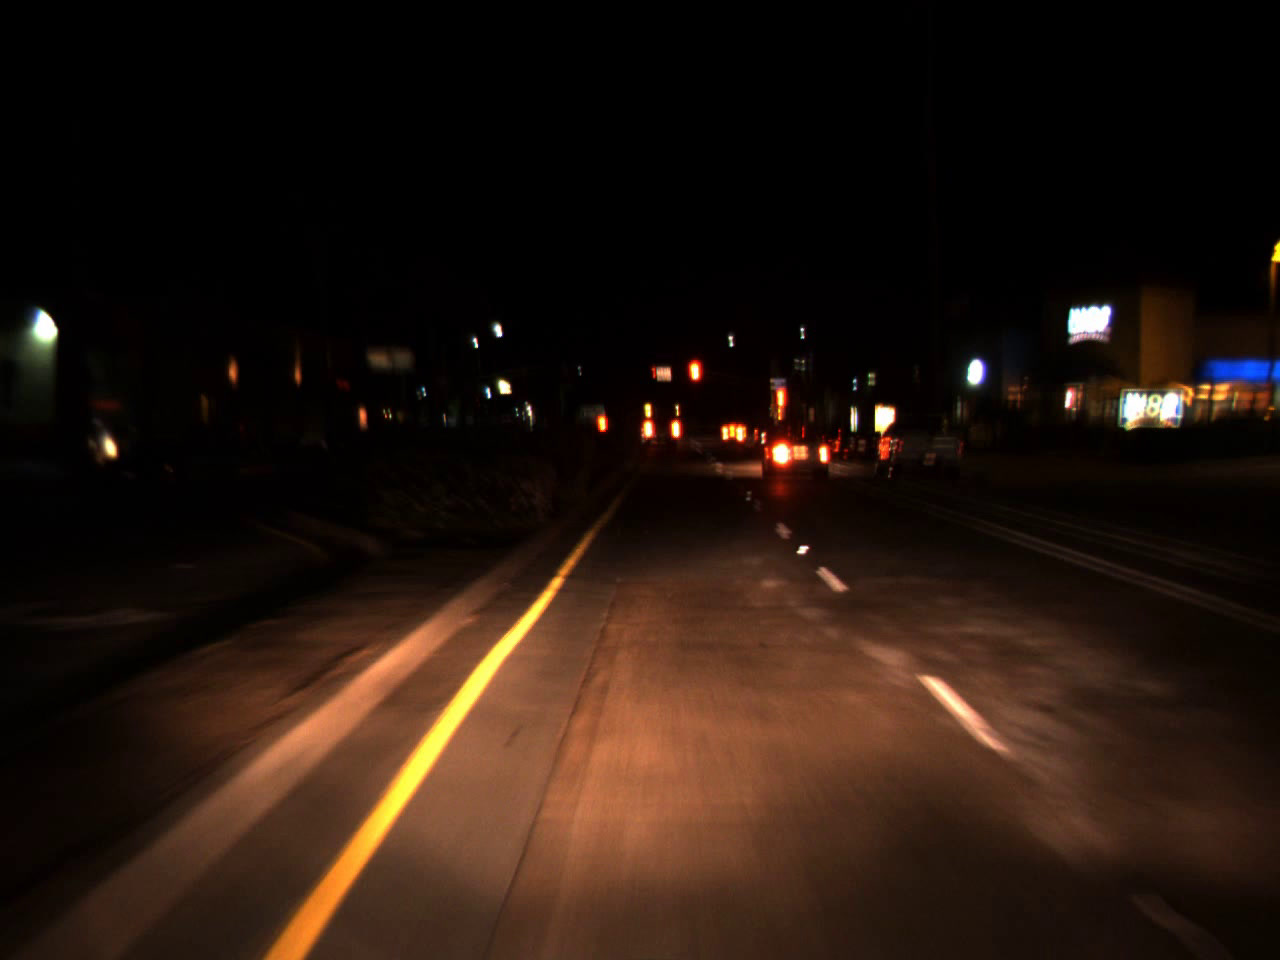stop: (686, 356, 703, 407), (773, 385, 791, 430), (650, 366, 657, 382)
